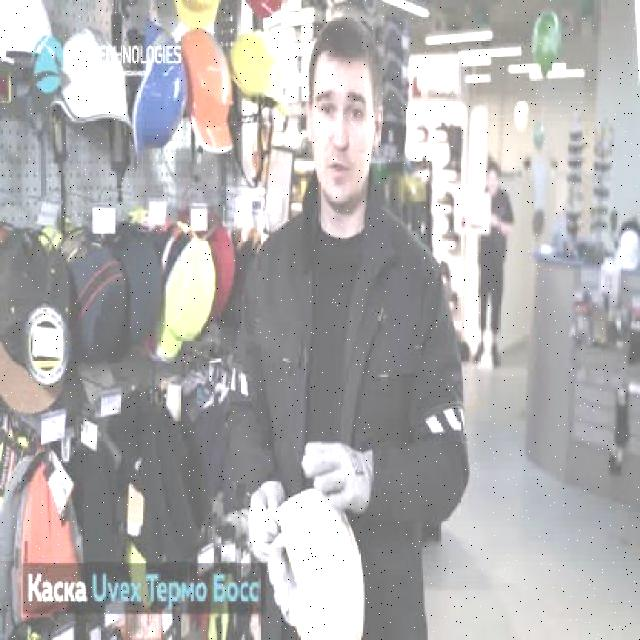Gloves: (300, 437, 374, 515), (248, 477, 286, 566)
Helmet: (262, 484, 368, 638), (49, 25, 134, 127), (133, 19, 190, 170), (178, 26, 234, 157), (224, 29, 287, 120), (0, 0, 62, 82)
